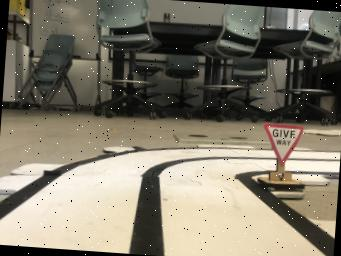give_way: (256, 123, 304, 198), (256, 123, 304, 198), (256, 123, 304, 198)
street: (0, 147, 334, 256), (0, 147, 334, 256), (0, 147, 334, 256), (285, 150, 340, 178), (285, 150, 340, 178), (285, 150, 340, 178)
